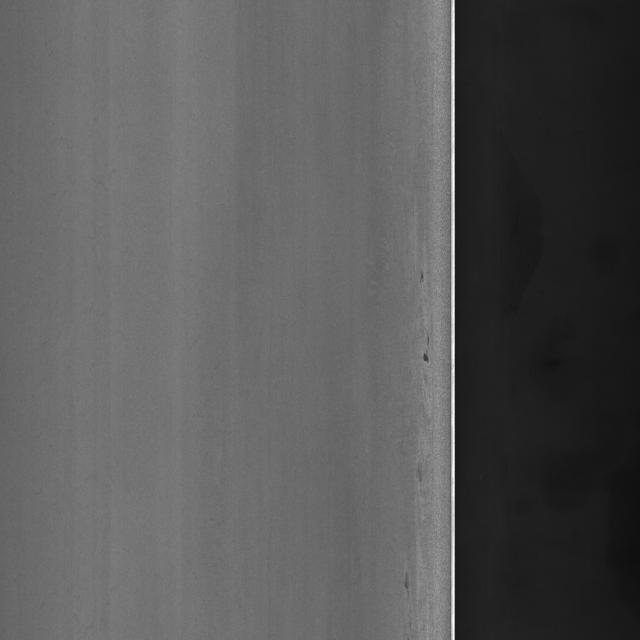oil_spot: (400, 562, 420, 630), (418, 333, 434, 372), (416, 260, 430, 295)
